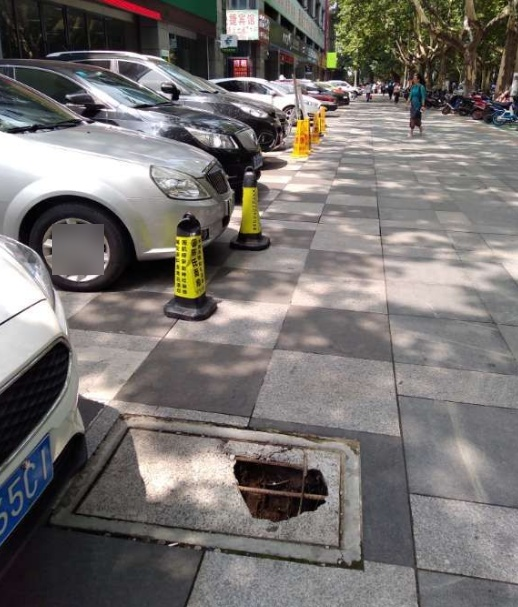broke: (49, 414, 362, 567)
